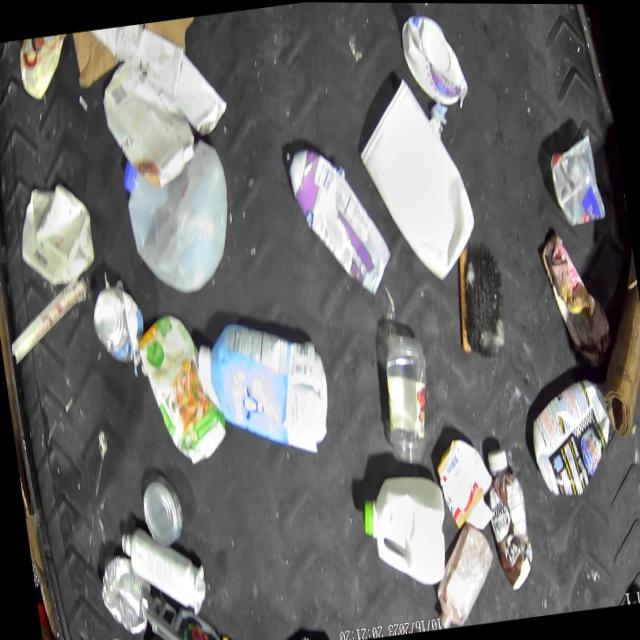can: (282, 134, 396, 308), (95, 551, 158, 639), (86, 281, 148, 368), (136, 470, 186, 547), (266, 629, 333, 640), (141, 632, 181, 640)
milk_jug: (117, 137, 240, 300), (356, 465, 454, 593)
non_white_jug: (190, 309, 334, 467), (523, 374, 619, 500)
